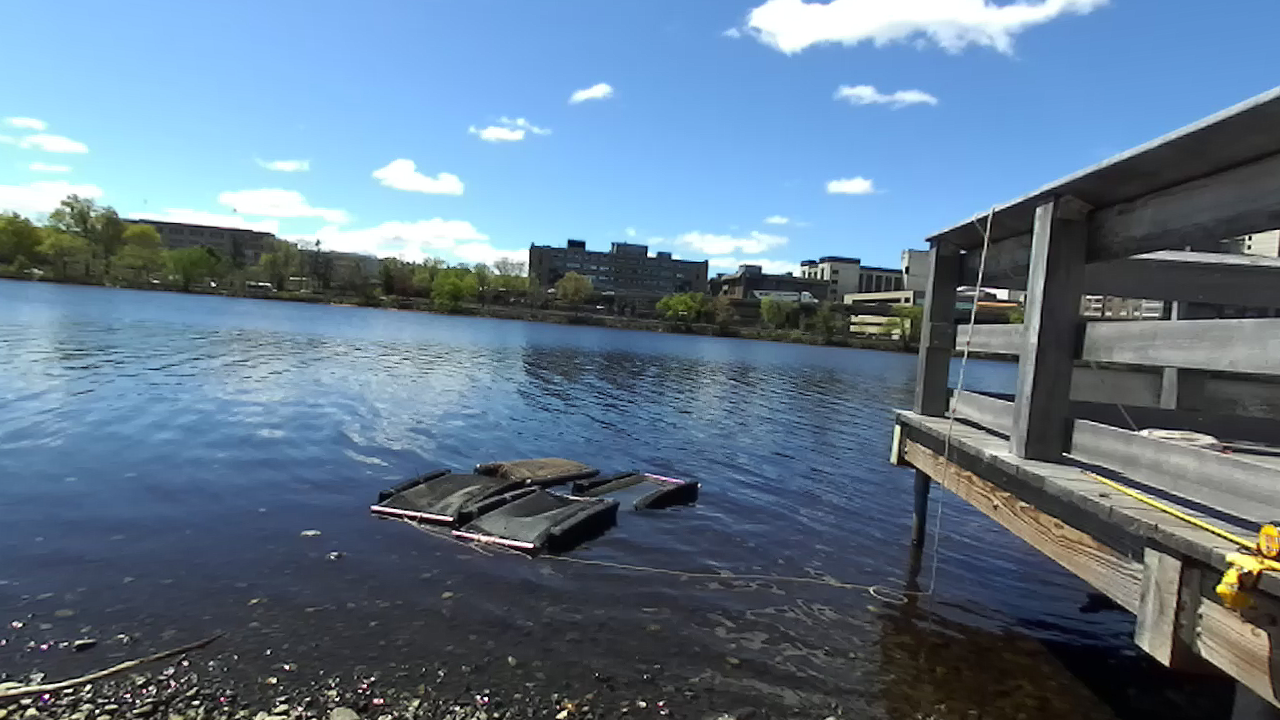bag: (453, 489, 619, 551), (375, 475, 523, 520), (572, 467, 695, 510), (476, 455, 596, 486)
